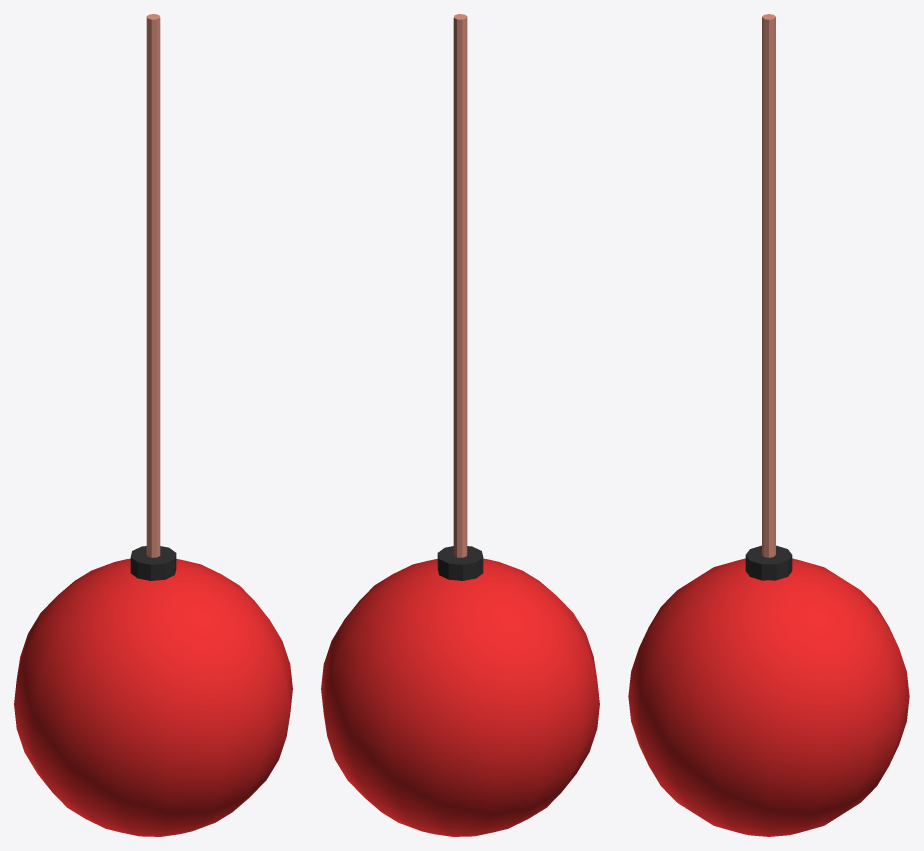
The model's file is CharacterShortcutRun_Ball.fbx.
3 views of the same model, side by side, from view 1: azimuth 30°, elevation 25°; view 2: azimuth 150°, elevation 25°; view 3: azimuth 270°, elevation 25° (orthographic).
Parts seen in each view (by area): view 1: Ball; view 2: Ball; view 3: Ball.
Part boxes in pixels (box(x1,y1,x2,y2)): Ball: box(14, 14, 292, 836); Ball: box(321, 14, 599, 836); Ball: box(628, 14, 909, 836).
Bounding box in the file's own units: 584 × 1848 × 584.
